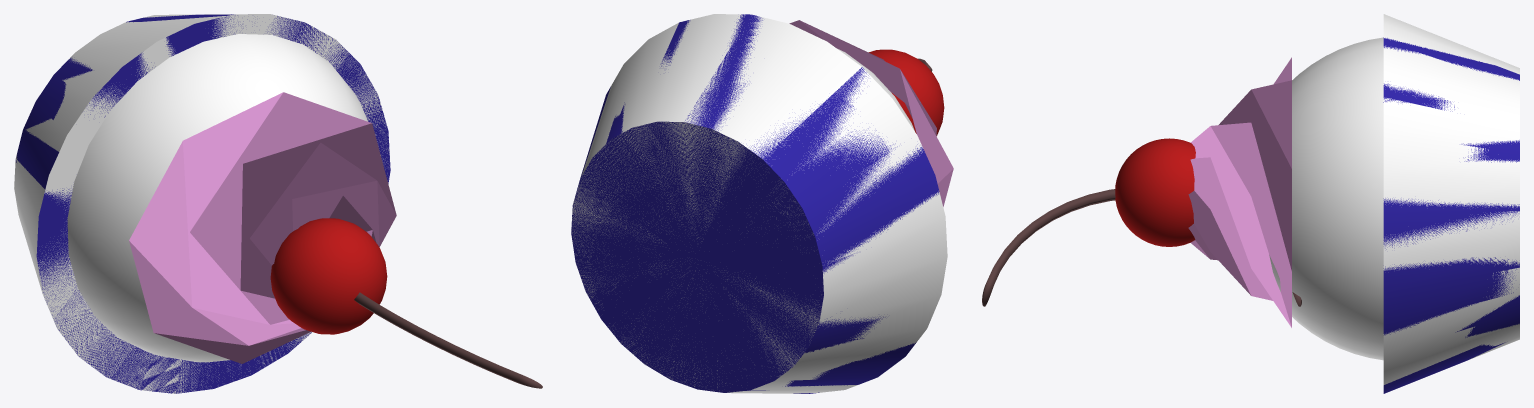
File: cupcake.dae
3 views of the same model, side by side, from view 1: azimuth 30°, elevation 25°; view 2: azimuth 150°, elevation 25°; view 3: azimuth 270°, elevation 25° (orthographic). The views are drawn at different scales.
Visible parts, largest first — view 1: Sphere, Cone, Cylinder, Sphere1, Capsule; view 2: Cylinder, Sphere, Cone, Sphere1; view 3: Sphere, Cone, Cylinder, Sphere1, Capsule.
Part boxes in pixels (x1,y1,x2,y2): Sphere: (14, 14, 389, 393); Cone: (129, 92, 396, 363); Cylinder: (15, 14, 390, 393); Sphere1: (270, 218, 387, 334); Capsule: (354, 292, 542, 388); Cylinder: (571, 14, 939, 393); Sphere: (571, 14, 947, 393); Cone: (789, 20, 953, 206); Sphere1: (868, 49, 944, 135); Sphere: (1269, 14, 1519, 384); Cone: (1188, 57, 1291, 327); Cylinder: (1383, 37, 1519, 393); Sphere1: (1115, 138, 1195, 246); Capsule: (982, 189, 1301, 306).
Size of the model in its own units: 1.4 by 1.4 by 1.98.
